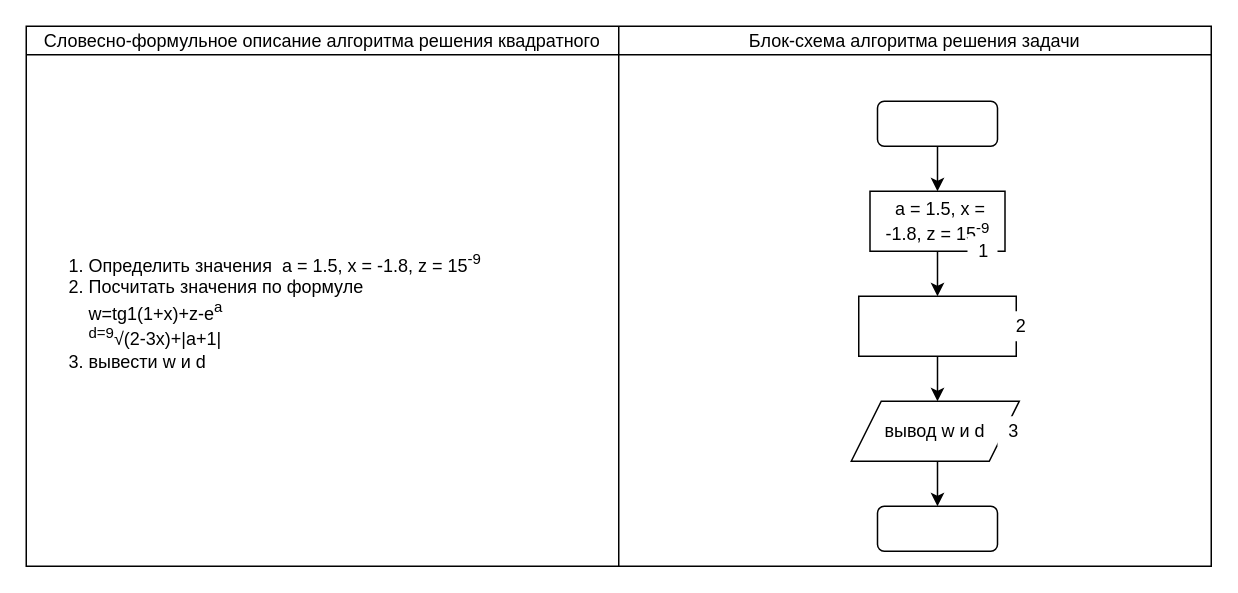
The diagram is 1238 pixels wide and 593 high, and some of its shapes have lost their labels. Each missing label, with the centre of its shape:
w=tg1(1+x)+z-e a d=9 √(2-3x)+|a+1|: the point at 936,325
конец: the point at 937,528
начало: the point at 937,123
